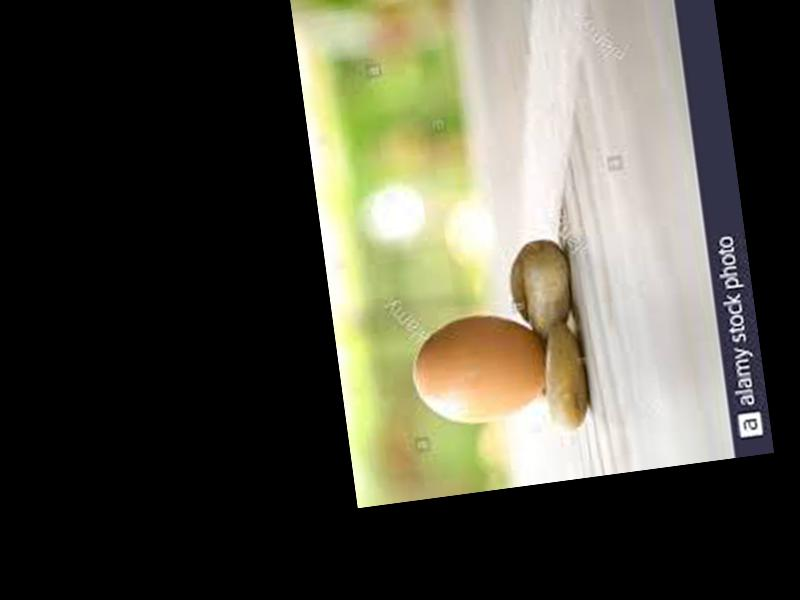Eggs: (408, 307, 553, 432)
